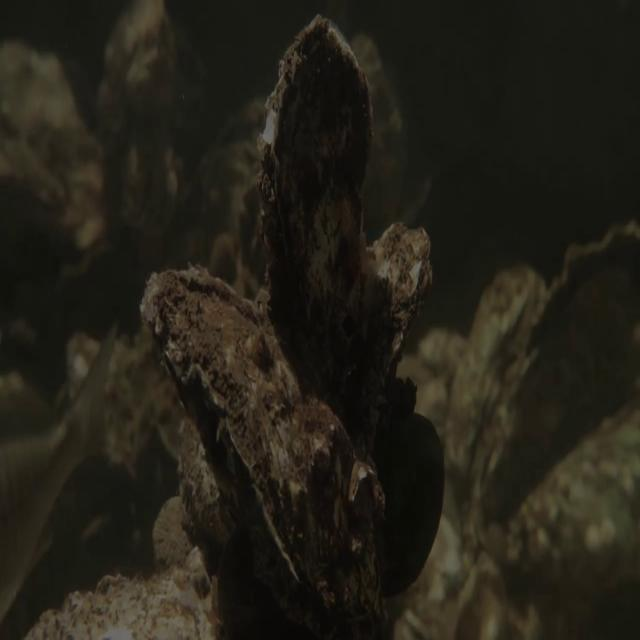Oyster-Closed: (133, 246, 403, 631), (252, 14, 384, 423), (371, 211, 437, 432)
Oyster-Indeterminate: (461, 217, 639, 536), (496, 394, 636, 593), (445, 261, 539, 494), (24, 543, 223, 639), (172, 401, 242, 552)
